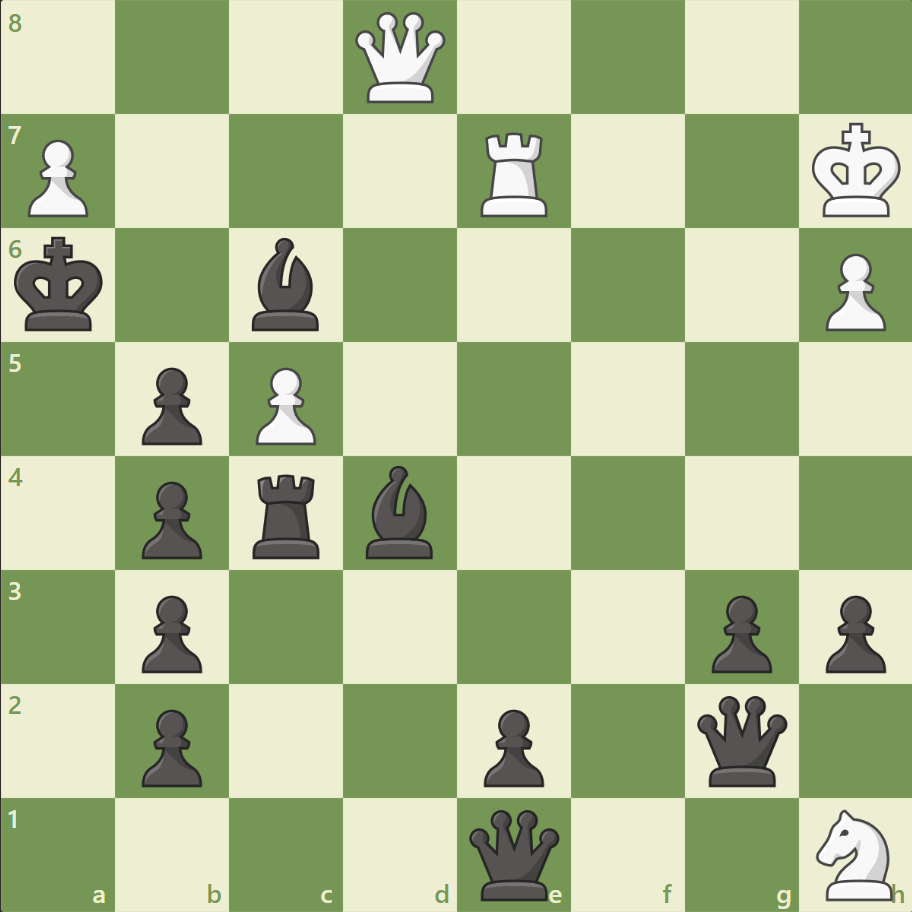K: (806, 117, 906, 225)
N: (806, 802, 903, 904)
P: (20, 132, 95, 223), (247, 359, 322, 450), (815, 246, 889, 337)
Q: (351, 9, 450, 108)
R: (473, 125, 556, 222)
b: (244, 233, 328, 336), (358, 460, 442, 563)
k: (11, 231, 111, 339)
p: (133, 359, 208, 450), (133, 473, 208, 564), (133, 586, 208, 677), (701, 586, 776, 677), (133, 700, 208, 791), (474, 700, 549, 791), (815, 586, 889, 677)
q: (691, 690, 790, 789), (464, 804, 563, 903)
r: (246, 466, 329, 563)
